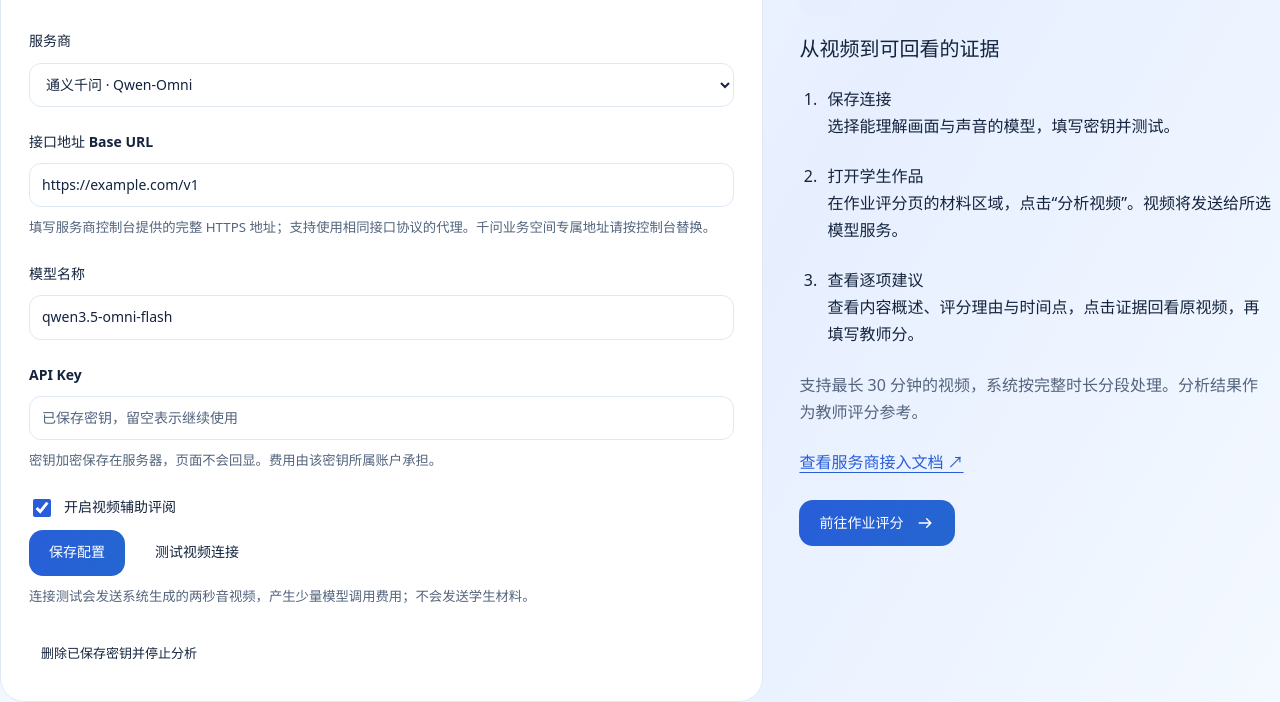
Test: 已有密钥可以留空使用；更换服务商会要求重新填写
(page scrolled)
Expected: the submit button is enabled, [29, 530, 125, 576]
Click the button "测试视频连接".
click(197, 553)  # box [135, 530, 259, 576]
(page scrolled)
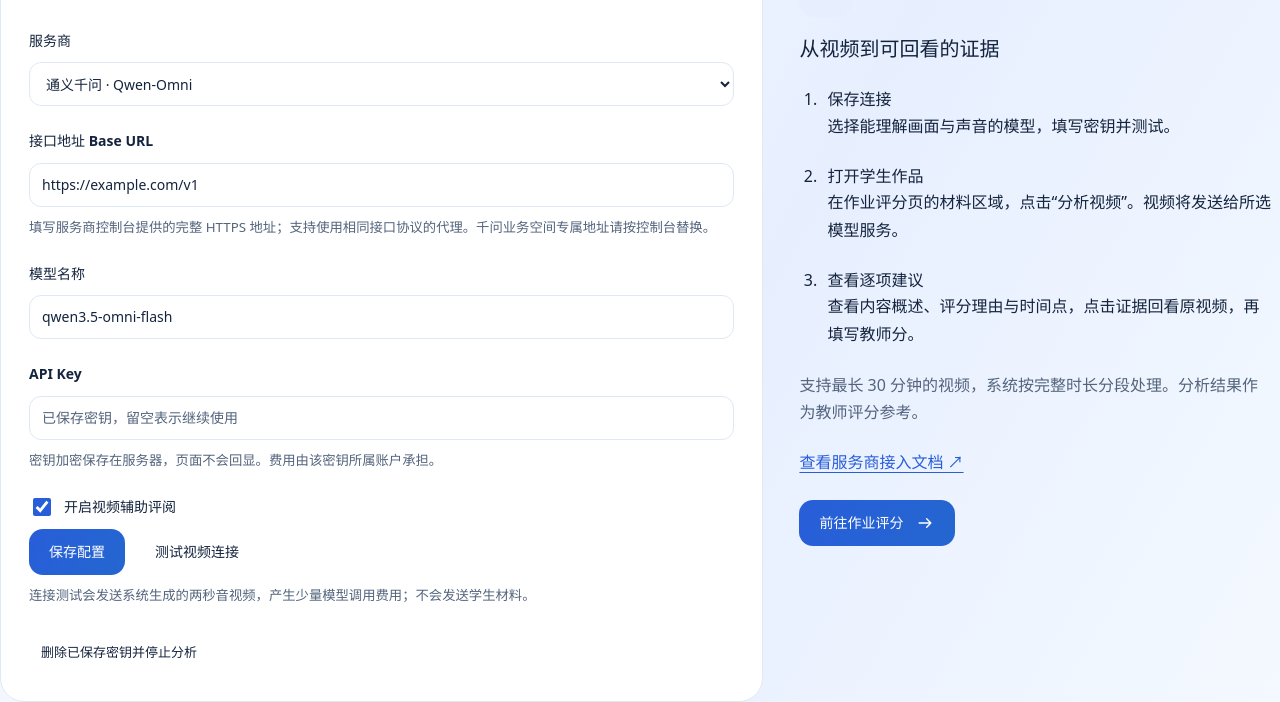
Select "Google · Gemini" in the dropdown with id "ai-provider" at (382, 84), box [29, 62, 734, 106]
(page scrolled)
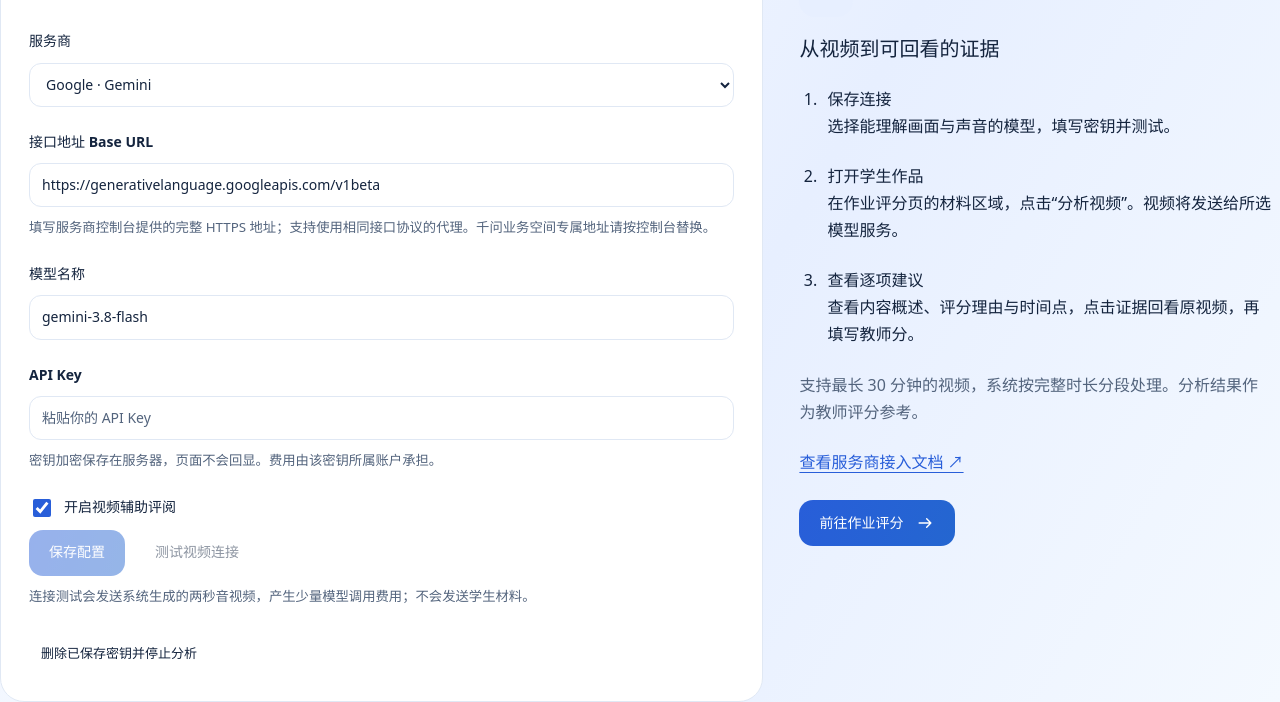
Expected: the submit button is disabled, [29, 530, 125, 576]
